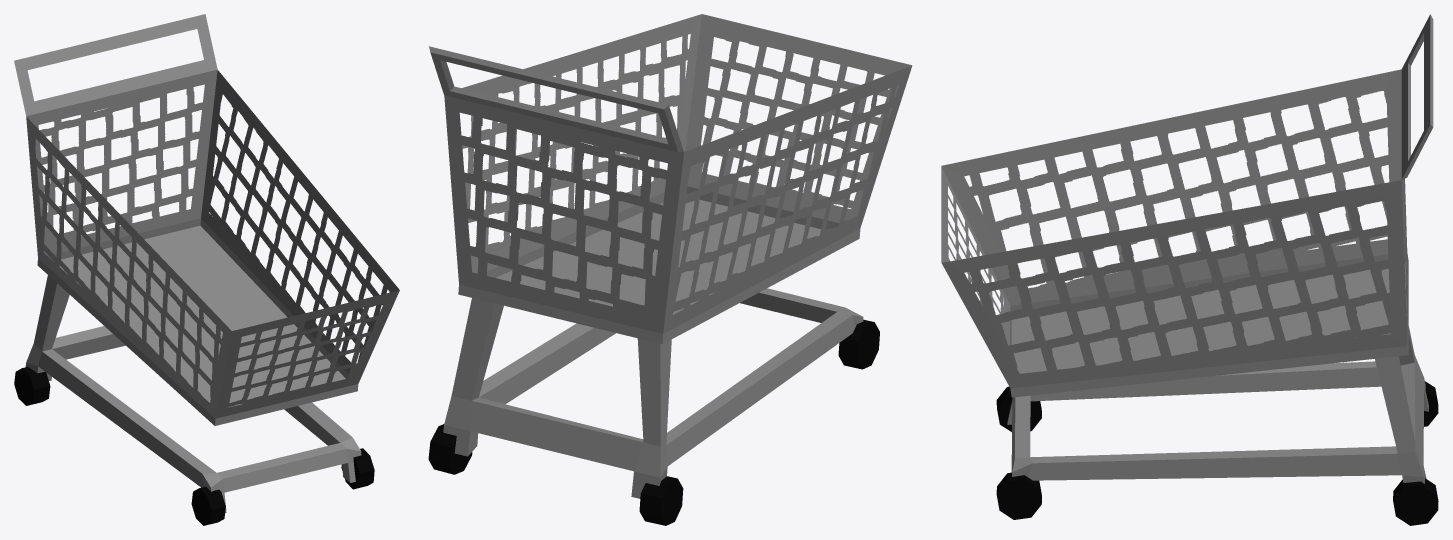
Rendered from NEW_CART.fbx.
The picture shows the model from 3 angles, left to right: view 1: azimuth 30°, elevation 25°; view 2: azimuth 150°, elevation 25°; view 3: azimuth 270°, elevation 25°; orthographic projection. The views are drawn at different scales.
Parts seen in each view (by area): view 1: CART; view 2: CART; view 3: CART.
Part boxes in pixels (x1,y1,x2,y2): CART: (14,14,399,525); CART: (428,14,912,525); CART: (941,14,1438,525).
Size of the model in its own units: 147 by 249 by 279.
